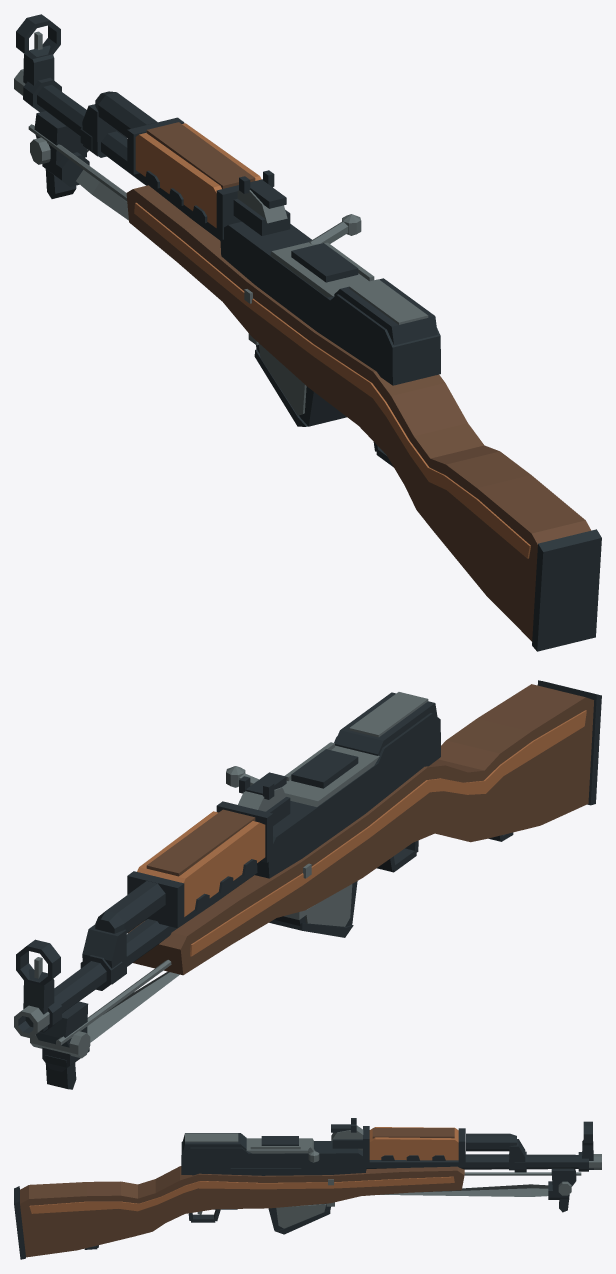
File: sks.glb
3 renders of one model, top to bottom at view 1: azimuth 30°, elevation 25°; view 2: azimuth 150°, elevation 25°; view 3: azimuth 270°, elevation 25°, orthographic. The views are drawn at different scales.
Visible parts, largest first — view 1: Wood_stock_0, Receiver_4, Butt_plate_3, Stock_upper_facet_1, Upper_wood_handguard_15, Handguard_top_16, Barrel_13, Receiver_cover_5, Cover_upper_facet_6, Ejection_port_8, Exposed_gas_tube_25, Bolt_carrier_7 (+9 smaller); view 2: Wood_stock_0, Receiver_4, Stock_upper_facet_1, Upper_wood_handguard_15, Barrel_13, Handguard_top_16, Exposed_gas_tube_25, Receiver_cover_5, Bolt_carrier_7, Cover_upper_facet_6, Handguard_front_band_24, Ejection_port_8 (+14 smaller); view 3: Wood_stock_0, Receiver_4, Stock_upper_facet_2, Barrel_13, Upper_wood_handguard_15, Folded_bayonet_blade_50, Exposed_gas_tube_25, Handguard_top_16, Magazine_facet_30, Bolt_carrier_7, Receiver_cover_5, Cover_upper_facet_6 (+13 smaller).
Part boxes in pixels (<box>): Wood_stock_0: <box>126,185,591,641</box>; Receiver_4: <box>220,221,440,385</box>; Butt_plate_3: <box>532,529,601,651</box>; Stock_upper_facet_1: <box>134,202,530,558</box>; Upper_wood_handguard_15: <box>135,123,261,227</box>; Handguard_top_16: <box>146,122,255,188</box>; Barrel_13: <box>37,85,220,240</box>; Receiver_cover_5: <box>334,278,437,345</box>; Cover_upper_facet_6: <box>349,279,428,324</box>; Ejection_port_8: <box>291,243,358,282</box>; Exposed_gas_tube_25: <box>95,91,157,137</box>; Bolt_carrier_7: <box>270,242,369,297</box>; Wood_stock_0: <box>128,684,593,975</box>; Receiver_4: <box>255,713,440,878</box>; Stock_upper_facet_1: <box>190,710,586,956</box>; Upper_wood_handguard_15: <box>137,811,265,916</box>; Barrel_13: <box>54,865,257,1013</box>; Handguard_top_16: <box>146,809,255,876</box>; Exposed_gas_tube_25: <box>95,881,165,933</box>; Receiver_cover_5: <box>335,692,437,755</box>; Bolt_carrier_7: <box>281,745,379,806</box>; Cover_upper_facet_6: <box>349,692,428,737</box>; Handguard_front_band_24: <box>127,871,184,928</box>; Ejection_port_8: <box>291,749,358,788</box>; Wood_stock_0: <box>20,1166,464,1257</box>; Receiver_4: <box>181,1141,366,1175</box>; Stock_upper_facet_2: <box>29,1176,454,1213</box>; Barrel_13: <box>366,1154,578,1169</box>; Upper_wood_handguard_15: <box>369,1127,458,1160</box>; Folded_bayonet_blade_50: <box>380,1184,548,1196</box>; Exposed_gas_tube_25: <box>466,1133,516,1151</box>; Handguard_top_16: <box>372,1128,454,1138</box>; Magazine_facet_30: <box>276,1204,326,1228</box>; Bolt_carrier_7: <box>246,1138,313,1153</box>; Receiver_cover_5: <box>182,1133,246,1152</box>; Cover_upper_facet_6: <box>185,1133,238,1142</box>.
Size of the model in its own units: 0.1295 by 0.307 by 1.26.
